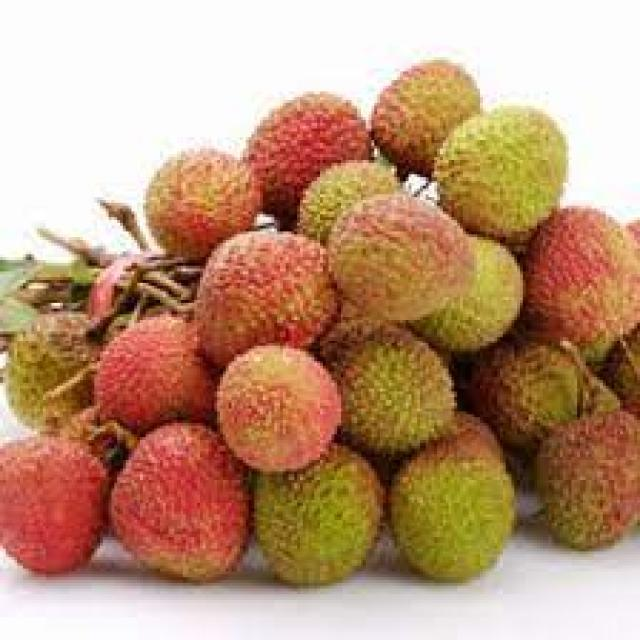lychee: (86, 64, 616, 572)
